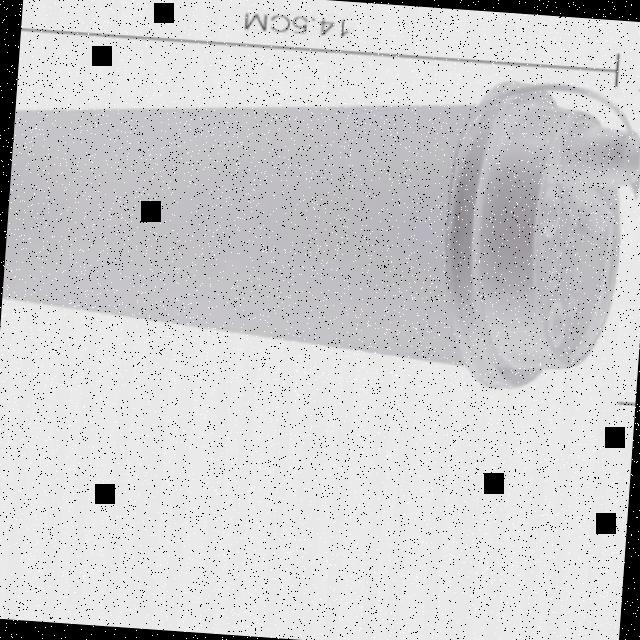plastic_box: (0, 44, 640, 407)
